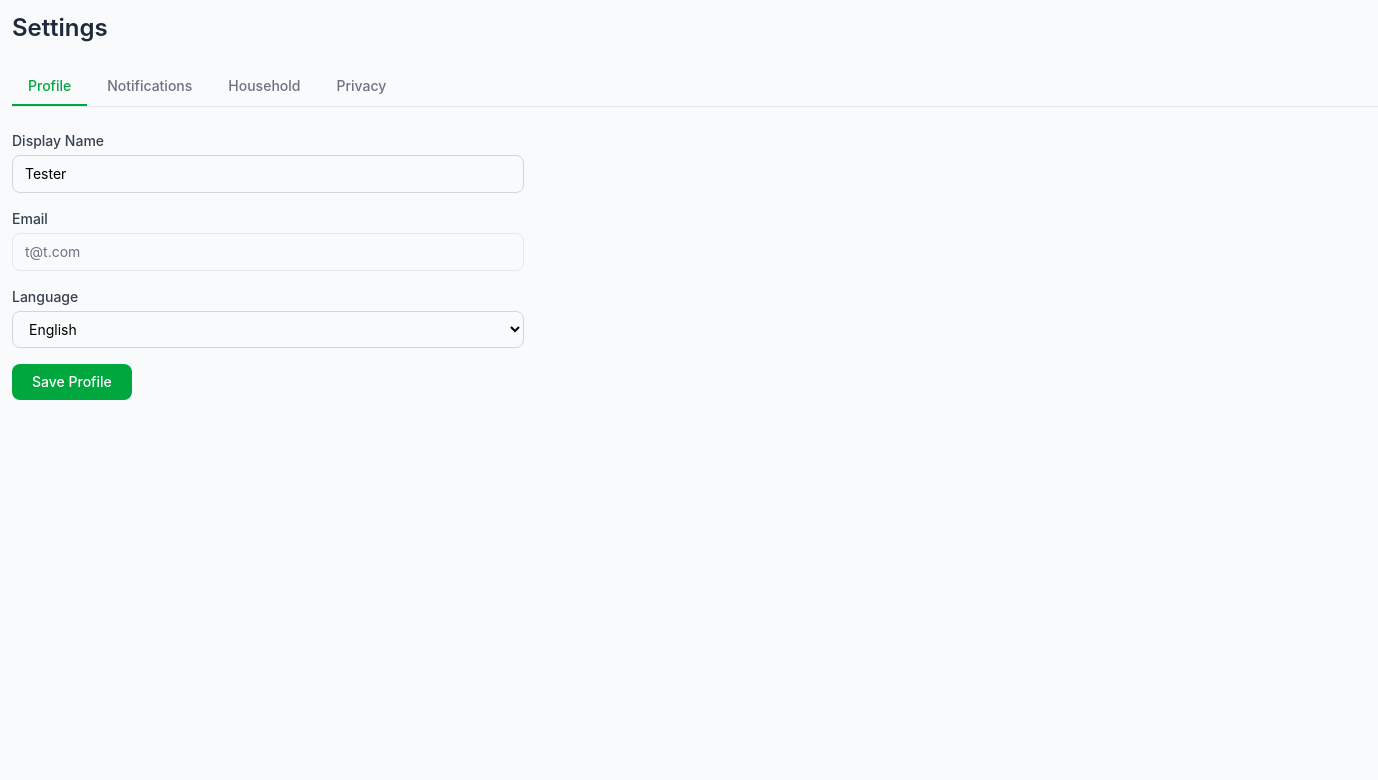
it: Settings — Household tab › shows invite link dialog when "Invite Member" is clicked
Click the tab "Household" at [264, 87], box [212, 68, 316, 106]
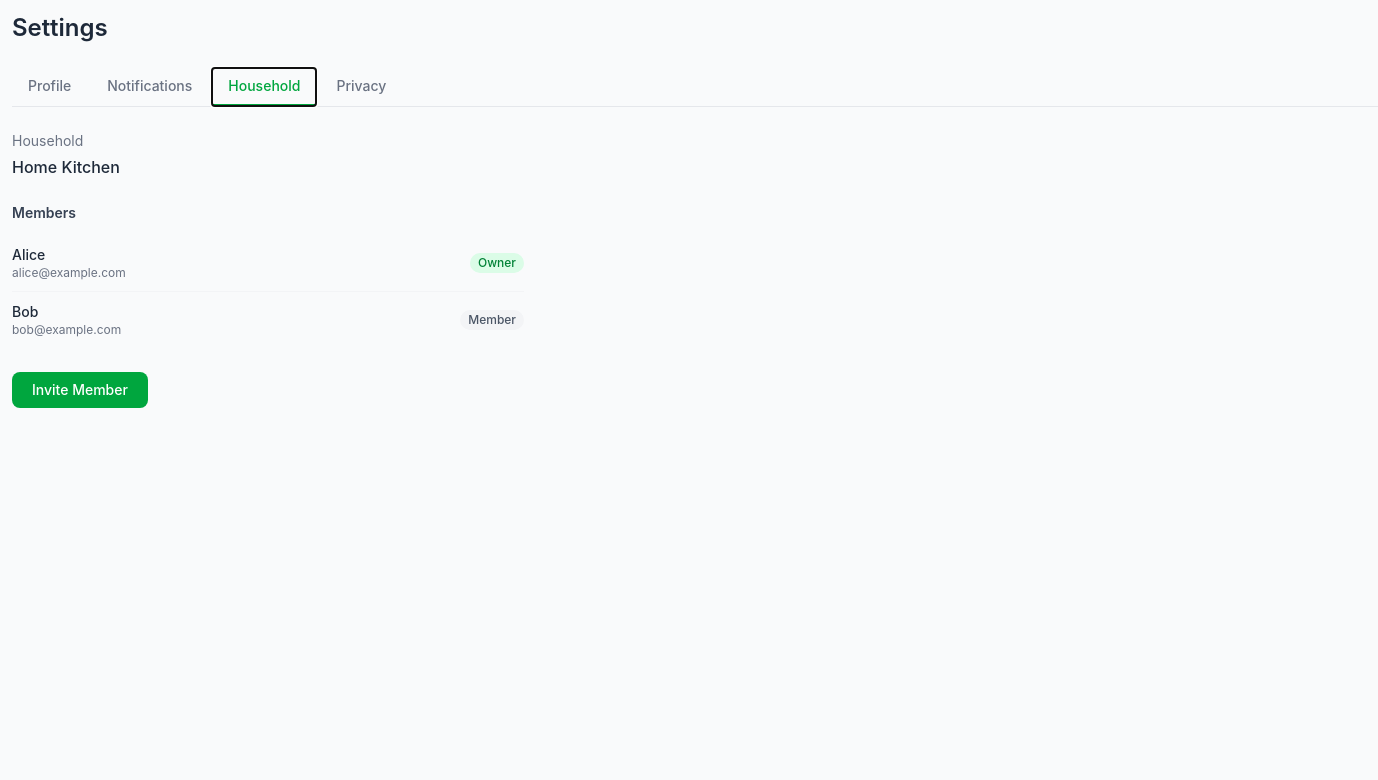
Click the button "Invite Member" at [80, 390], box [12, 372, 148, 408]
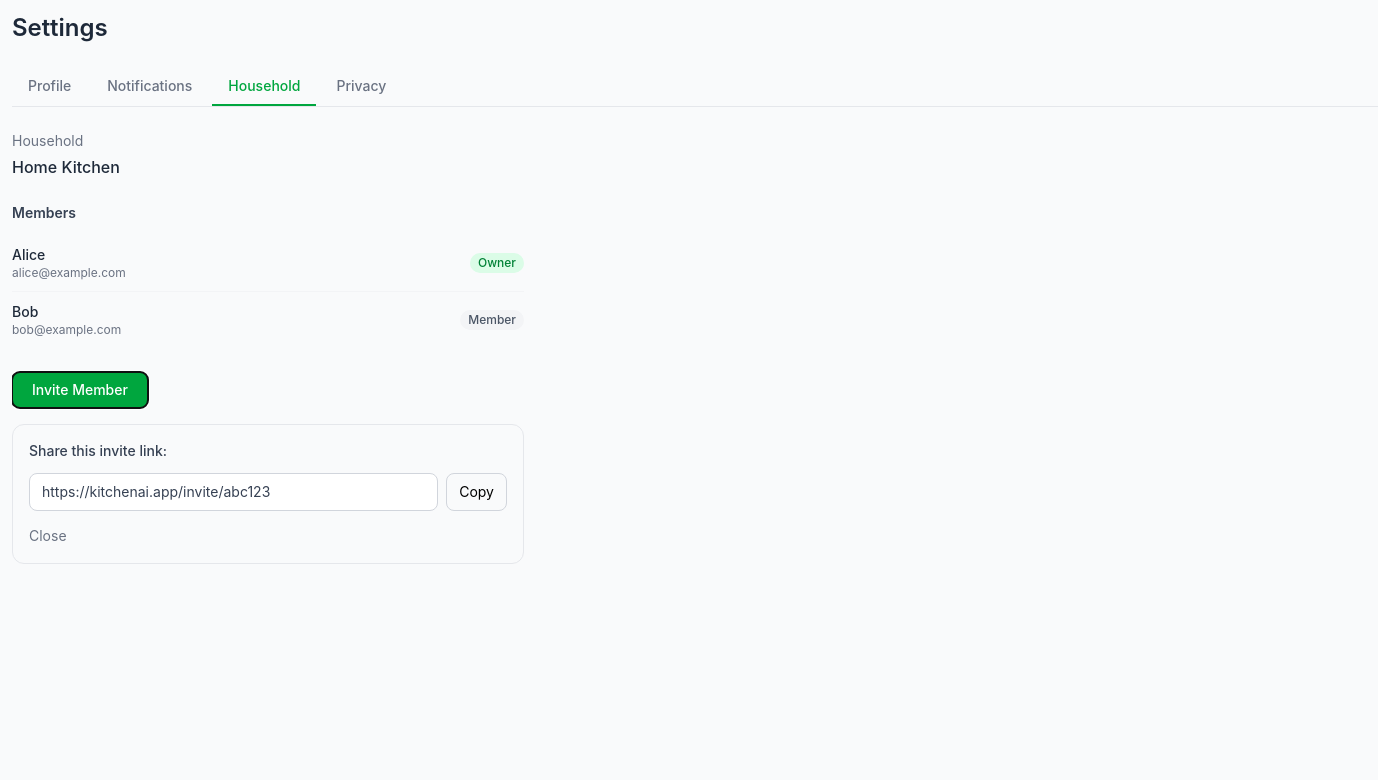
Now the field showing "https://kitchenai.app/invite/abc123" is shown, box [29, 473, 438, 511]
